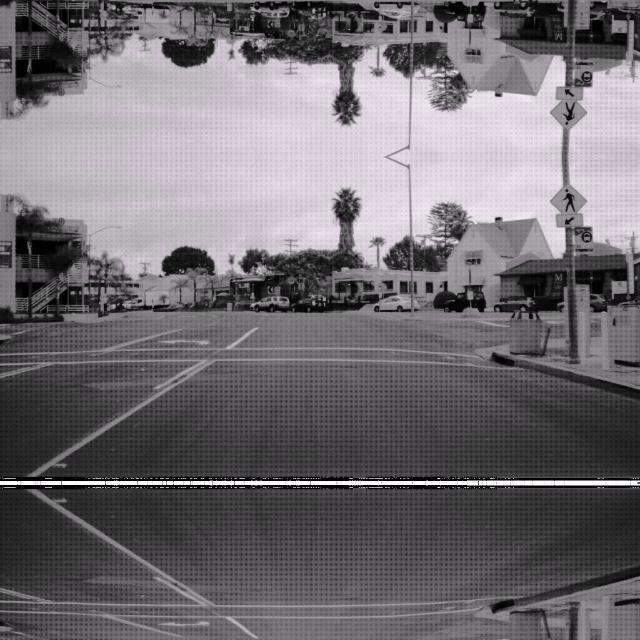pedestrianCrossing: (549, 182, 587, 218), (549, 94, 587, 130)
